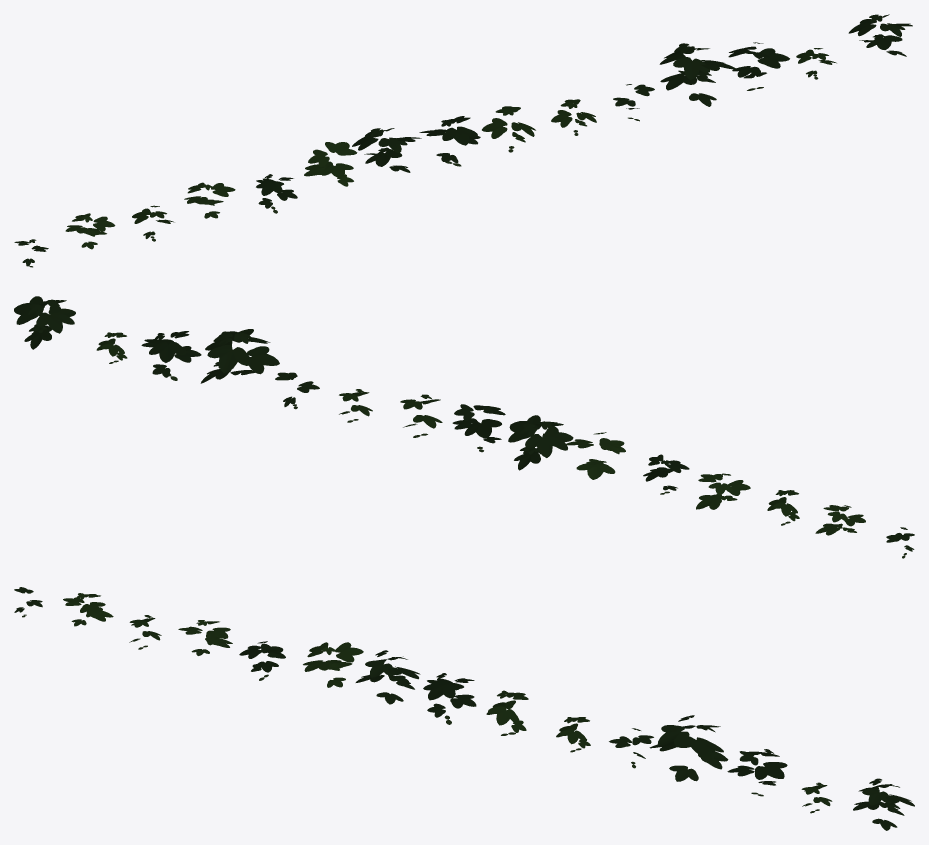
File: ROW_09_SEG1_foliage.dae
3 views of the same model, one above another, from view 1: azimuth 30°, elevation 25°; view 2: azimuth 150°, elevation 25°; view 3: azimuth 330°, elevation 25° (orthographic).
Parts seen in each view (by area): view 1: ROW_09_SEG1_foliage; view 2: ROW_09_SEG1_foliage; view 3: ROW_09_SEG1_foliage.
Part boxes in pixels (box(x1,y1,x2,y2)): ROW_09_SEG1_foliage: box(14, 14, 912, 267); ROW_09_SEG1_foliage: box(14, 296, 914, 558); ROW_09_SEG1_foliage: box(14, 587, 914, 830).
Size of the model in its own units: 4.49 by 0.3442 by 0.2915.
